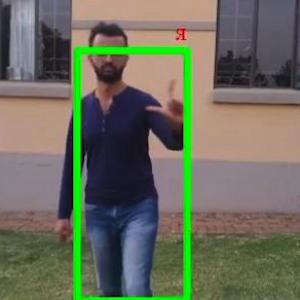land_hand: (140, 75, 192, 135)
